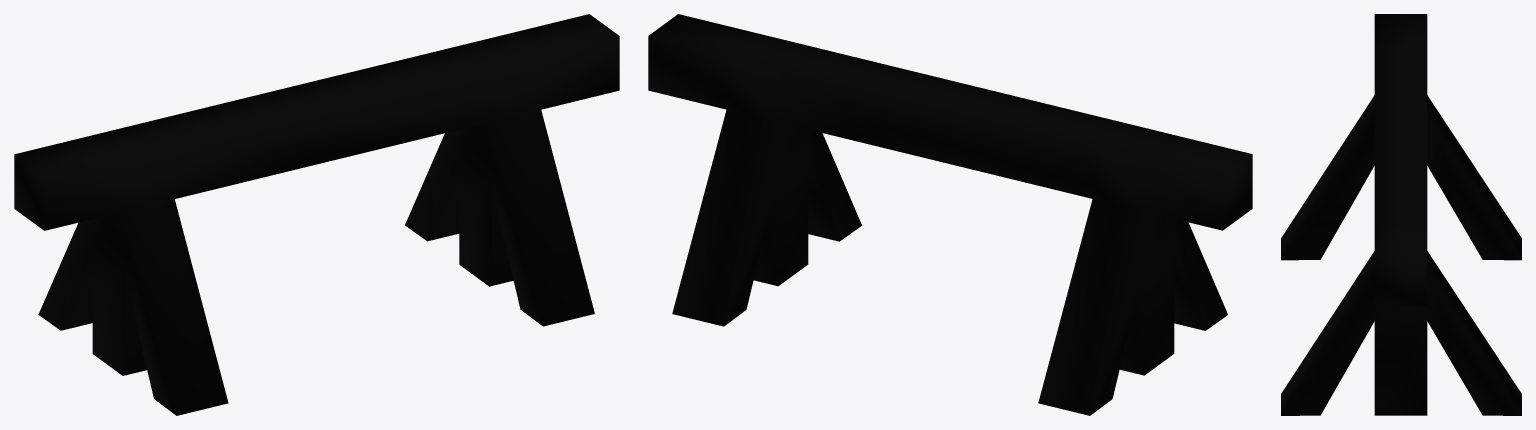
3 renders of one model, left to right at view 1: azimuth 30°, elevation 25°; view 2: azimuth 150°, elevation 25°; view 3: azimuth 270°, elevation 25°, orthographic. The views are drawn at different scales.
Parts seen in each view (by area): view 1: T1L1M004_3; view 2: T1L1M004_3; view 3: T1L1M004_3.
Part boxes in pixels (x1=…): T1L1M004_3: x1=14, y1=14, x2=619, y2=415; T1L1M004_3: x1=648, y1=14, x2=1252, y2=415; T1L1M004_3: x1=1281, y1=14, x2=1521, y2=415.
Size of the model in its own units: 4.41 by 1.61 by 1.83.
